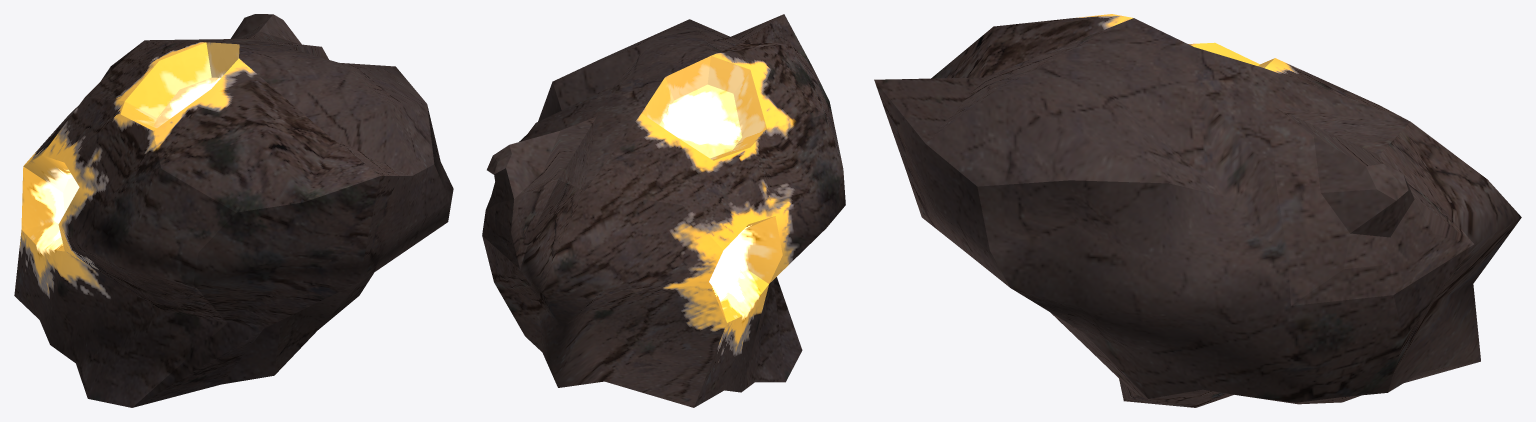
File: meteor_square.fbx
3 views of the same model, side by side, from view 1: azimuth 30°, elevation 25°; view 2: azimuth 150°, elevation 25°; view 3: azimuth 270°, elevation 25° (orthographic). The views are drawn at different scales.
Visible parts, largest first — view 1: pCube2; view 2: pCube2; view 3: pCube2.
Boxes of the visible parts, bbox=[...] form: pCube2: bbox=[14, 14, 453, 407]; pCube2: bbox=[482, 14, 845, 407]; pCube2: bbox=[874, 14, 1521, 407].
Size of the model in its own units: 3.16 by 2.91 by 4.49.
Materials: 1 (1 with a texture image).
